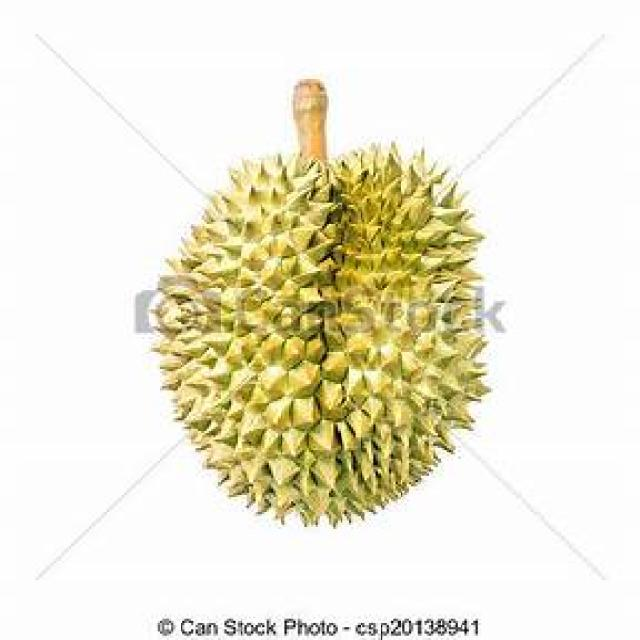mature: (154, 148, 487, 524)
